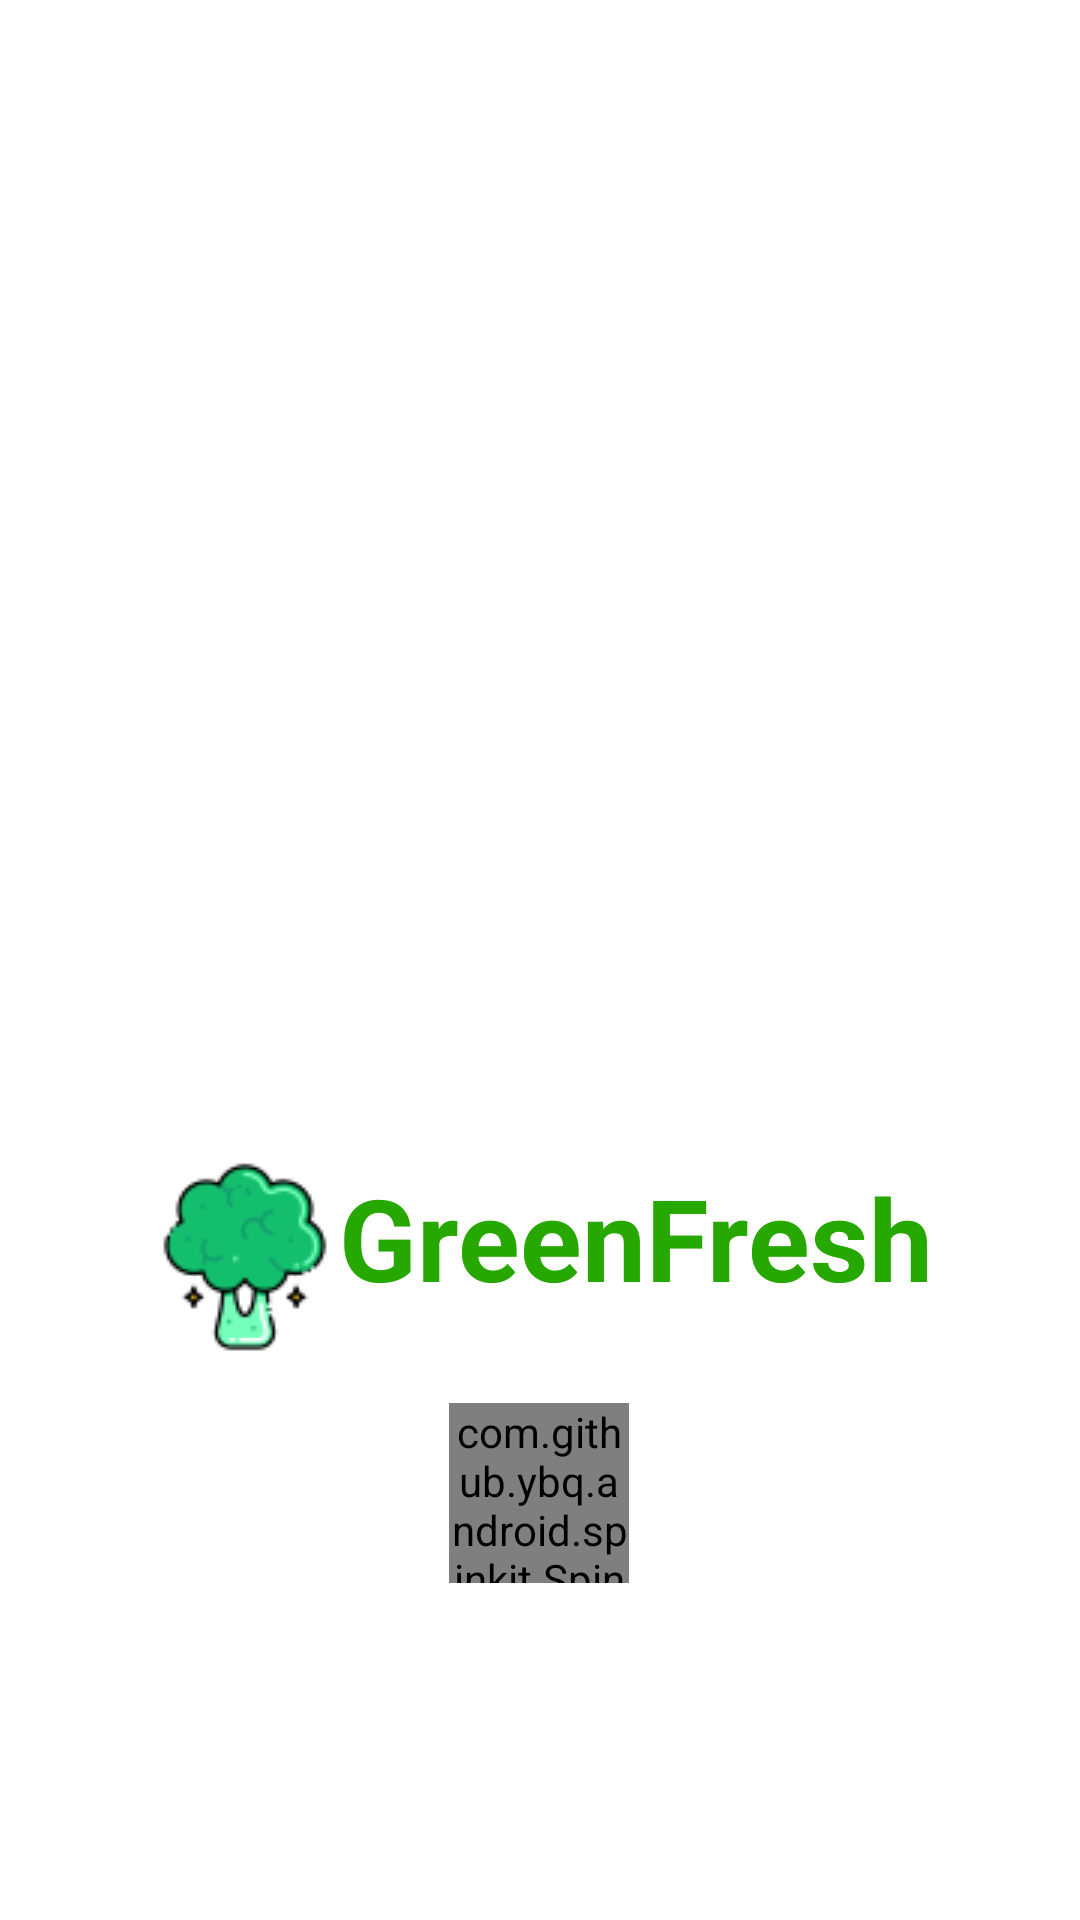

Icon bounding boxes for this 1080×1920 phone screenshot, format region(x1, y1, x2, y2):
vegetable: region(163, 1163, 327, 1351)
